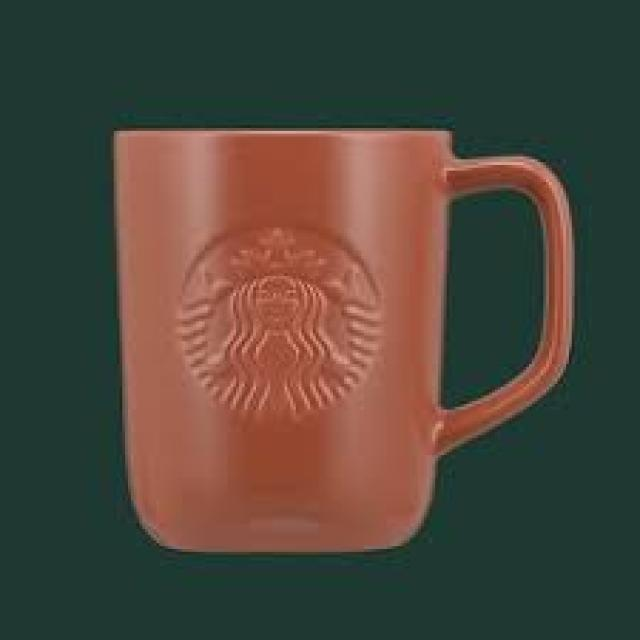taza: (113, 128, 575, 554)
